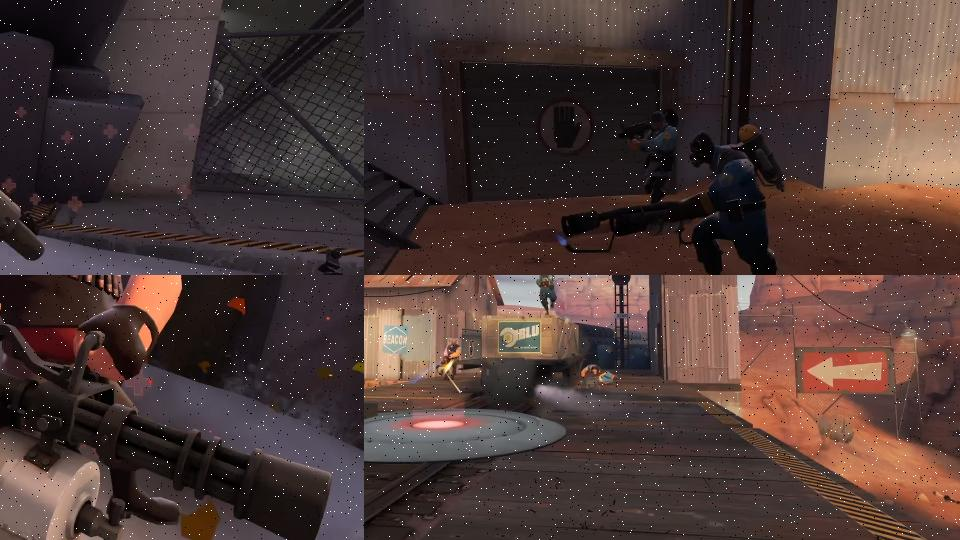Enemy: (0, 275, 331, 540), (557, 127, 791, 275), (613, 101, 687, 215), (438, 338, 461, 382), (536, 275, 557, 314), (597, 370, 620, 387), (582, 362, 600, 378)
